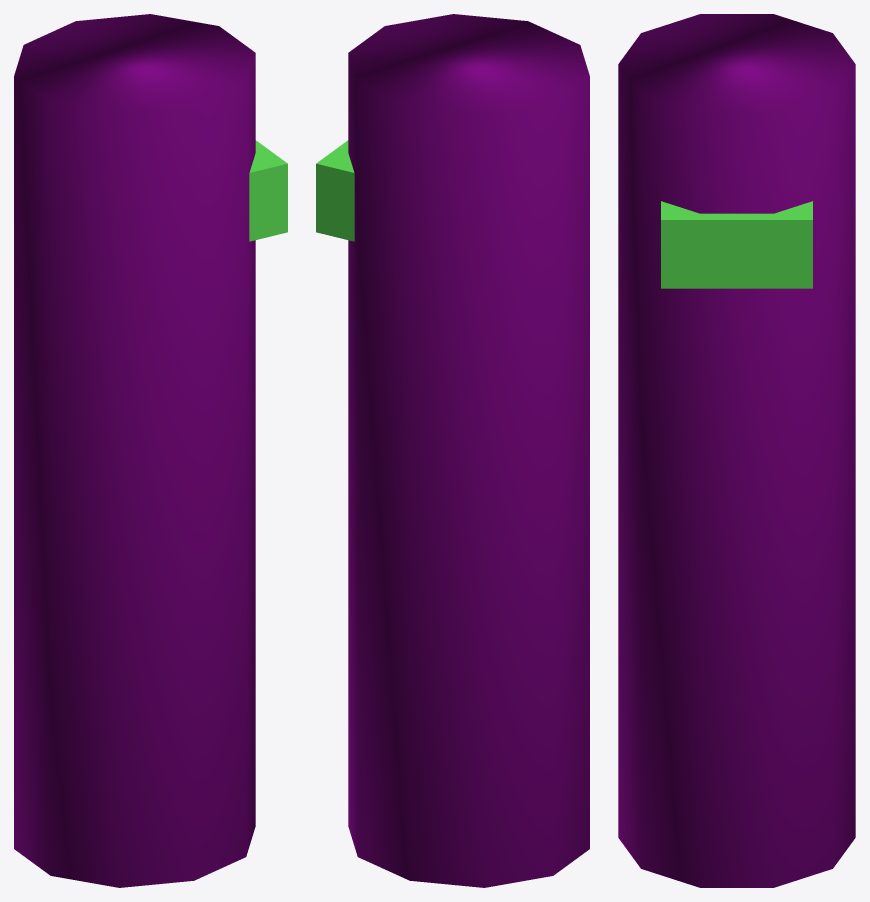
File: enemy.glb
The picture shows the model from 3 angles, left to right: view 1: azimuth 30°, elevation 25°; view 2: azimuth 150°, elevation 25°; view 3: azimuth 270°, elevation 25°; orthographic projection.
Visible parts, largest first — view 1: Cylinder, Cube; view 2: Cylinder, Cube; view 3: Cylinder, Cube.
Part boxes in pixels (x1=…): Cylinder: x1=14, y1=14, x2=255, y2=887; Cube: x1=249, y1=140, x2=287, y2=241; Cylinder: x1=348, y1=14, x2=589, y2=887; Cube: x1=316, y1=140, x2=354, y2=241; Cylinder: x1=618, y1=14, x2=855, y2=887; Cube: x1=661, y1=201, x2=812, y2=288.
Size of the model in its own units: 0.5305 by 1.8 by 0.5.
